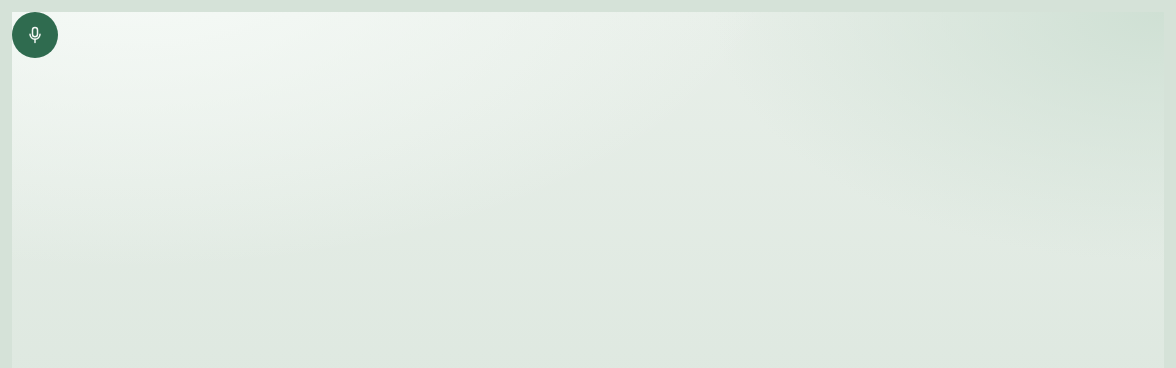
microfone no compositor › toque inicia a gravação e continua com Enviar e Cancelar depois de soltar
Later steps or results of the test are not shown.
Press the mouse on the button named "Toque para falar, ou segure para gravar" at coordinates (35, 35), box [12,12,58,58]
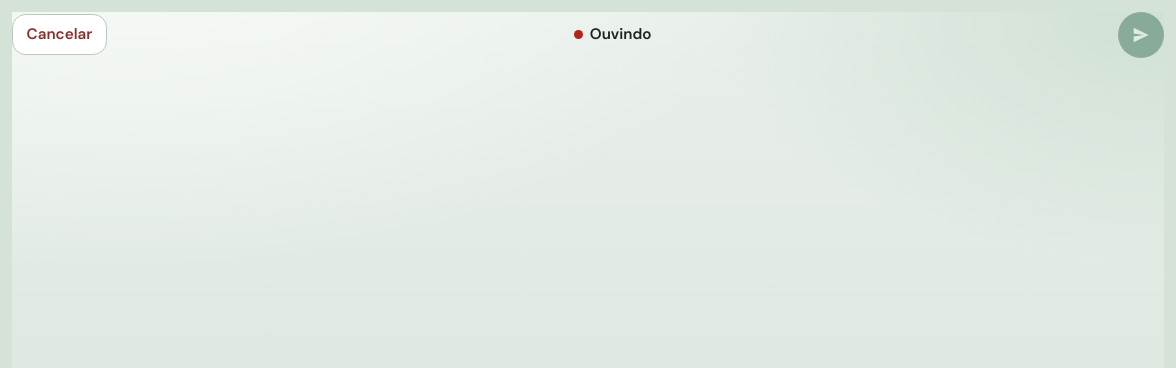
Check: the text "Cancelar" is shown, box [12,14,107,55]
Check: the text "Ouvindo" is shown, box [574,24,651,44]
